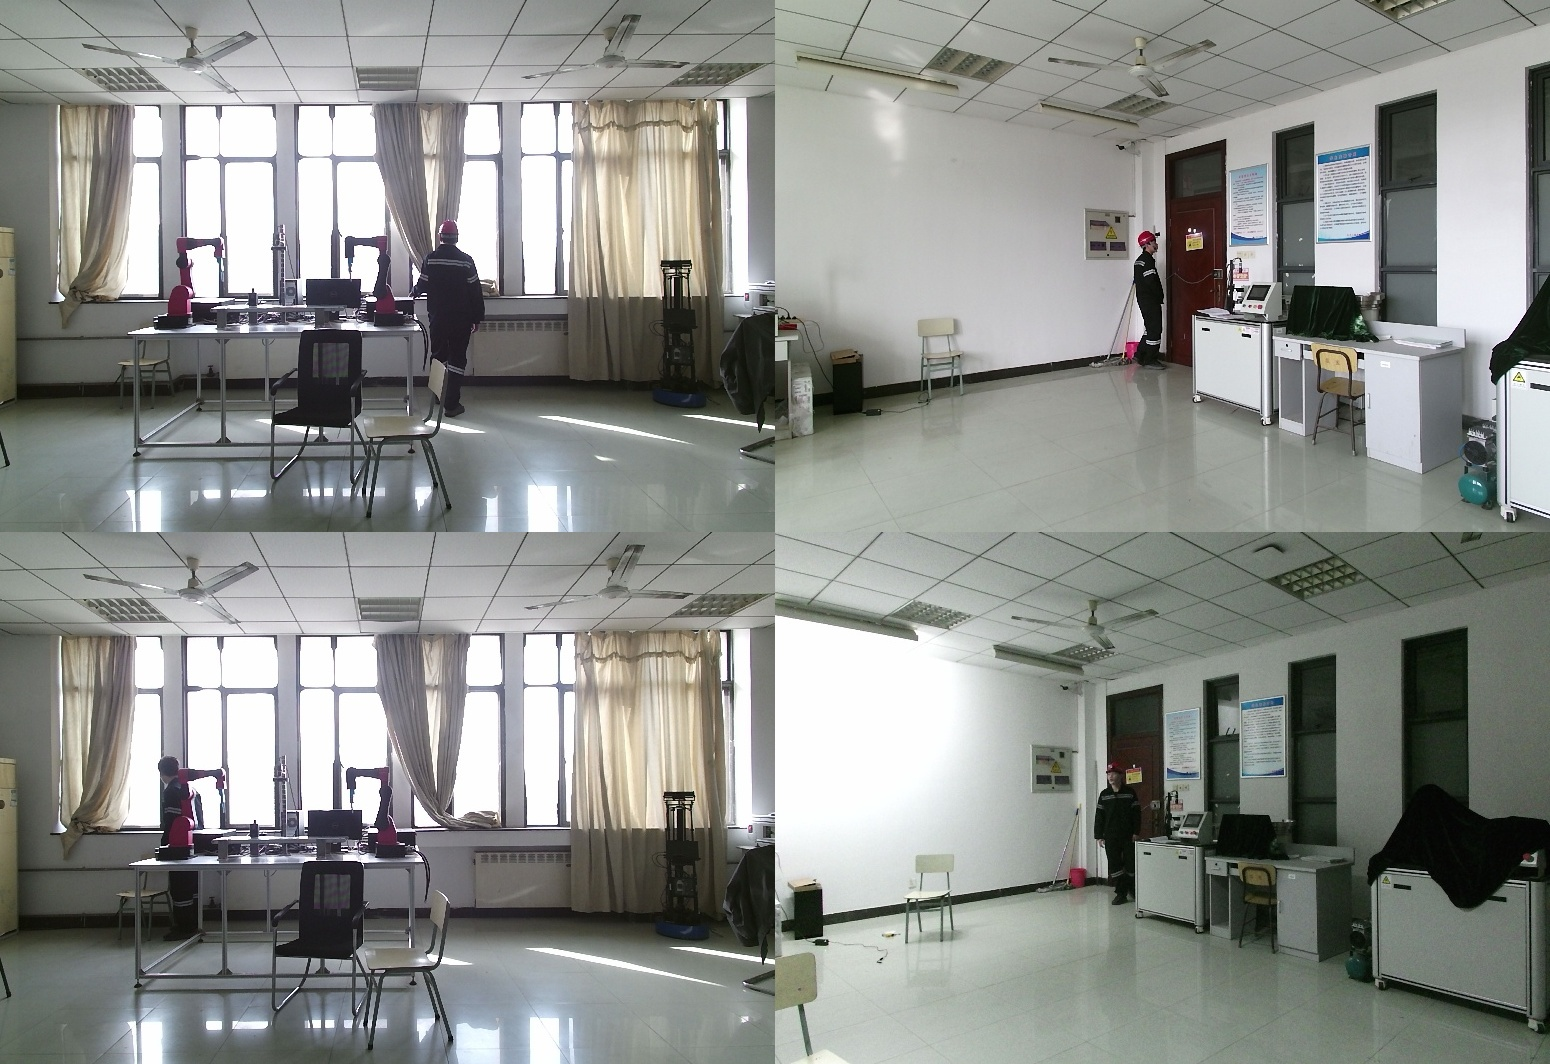person: (410, 222, 487, 423), (155, 754, 208, 946), (1091, 761, 1150, 911), (1130, 229, 1165, 372)
